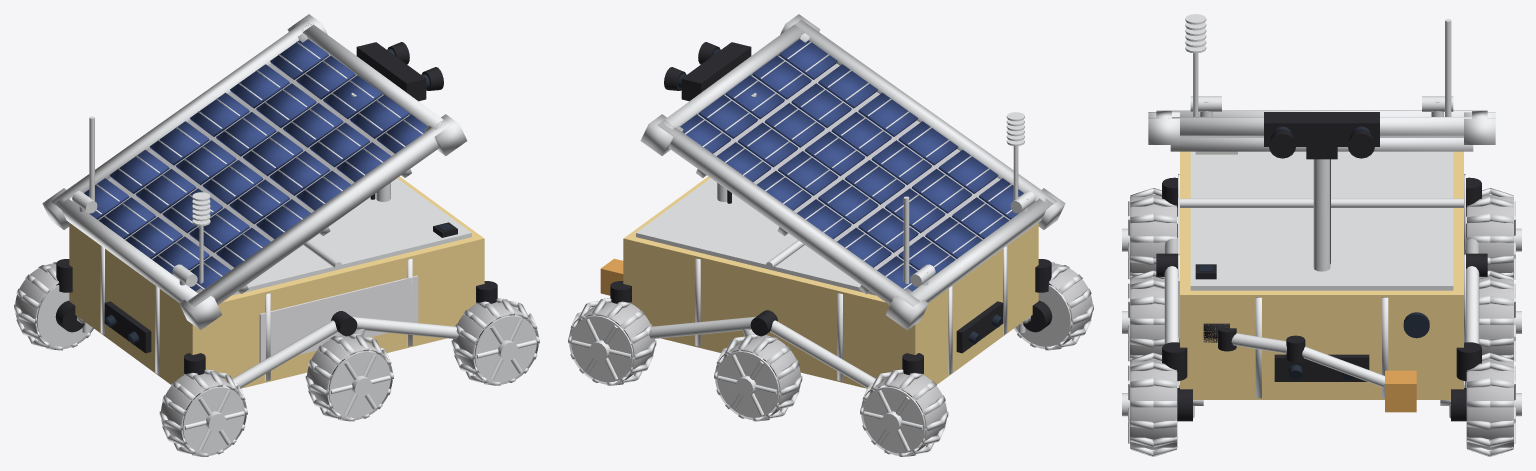
Rendered from rover_B.glb.
3 views of the same model, side by side, from view 1: azimuth 30°, elevation 25°; view 2: azimuth 150°, elevation 25°; view 3: azimuth 270°, elevation 25° (orthographic). The views are drawn at different scales.
Visible parts, largest first — view 1: tilt_panel_cells, chassis, tilt_panel_frame, chassis_top_deck, radiator, tilt_panel_substrate, tilt_panel_busbars, wheel_RR_flanges, wheel_FR_flanges, wheel_MR_flanges, navcam_bar, wheel_MR_grousers (+15 smaller); view 2: tilt_panel_cells, chassis, tilt_panel_frame, chassis_top_deck, tilt_panel_substrate, tilt_panel_busbars, wheel_RL_flanges, wheel_FL_flanges, wheel_ML_flanges, navcam_bar, chassis_mli_seams, wheel_ML_grousers (+16 smaller); view 3: chassis_top_deck, chassis, tilt_panel_frame, navcam_bar, wheel_FL_tyre, wheel_FR_tyre, differential_bar, tilt_panel_back_ribs, wheel_FL_grousers, wheel_FR_grousers, wheel_RL_tyre, wheel_RR_tyre (+31 smaller).
Boxes of the visible parts, box(x1,y1,x2,y2) form: tilt_panel_cells: box(84, 39, 427, 291); chassis: box(69, 176, 484, 388); tilt_panel_frame: box(42, 14, 467, 330); chassis_top_deck: box(232, 178, 471, 295); radiator: box(259, 275, 418, 362); tilt_panel_substrate: box(98, 56, 409, 270); tilt_panel_busbars: box(95, 41, 423, 289); wheel_RR_flanges: box(181, 386, 244, 453); wheel_FR_flanges: box(473, 314, 536, 382); wheel_MR_flanges: box(327, 350, 390, 417); navcam_bar: box(356, 42, 426, 101); wheel_MR_grousers: box(305, 334, 393, 421); tilt_panel_cells: box(680, 39, 1023, 291); chassis: box(623, 176, 1038, 388); tilt_panel_frame: box(640, 14, 1065, 330); chassis_top_deck: box(636, 178, 875, 295); tilt_panel_substrate: box(698, 56, 1009, 270); tilt_panel_busbars: box(684, 41, 1012, 289); wheel_RL_flanges: box(863, 386, 926, 453); wheel_FL_flanges: box(571, 314, 634, 382); wheel_ML_flanges: box(717, 350, 780, 417); navcam_bar: box(681, 42, 751, 101); chassis_mli_seams: box(695, 246, 1007, 381); wheel_ML_grousers: box(714, 334, 802, 421); chassis_top_deck: box(1190, 151, 1453, 290); chassis: box(1180, 151, 1463, 399); tilt_panel_frame: box(1148, 110, 1495, 144); navcam_bar: box(1264, 112, 1379, 146); wheel_FL_tyre: box(1466, 359, 1513, 449); wheel_FR_tyre: box(1130, 359, 1177, 449); differential_bar: box(1180, 198, 1463, 207); tilt_panel_back_ribs: box(1170, 138, 1473, 151); wheel_FL_grousers: box(1467, 352, 1513, 456); wheel_FR_grousers: box(1130, 352, 1176, 456); wheel_RL_tyre: box(1466, 195, 1513, 278); wheel_RR_tyre: box(1130, 195, 1177, 278).
Size of the model in its own units: 0.9504 by 0.6652 by 0.76.
